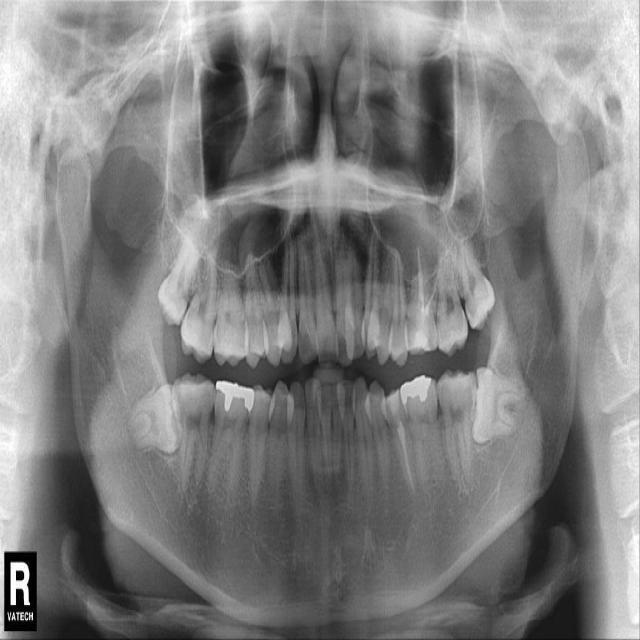Filling: (215, 381, 257, 416), (400, 375, 432, 405), (414, 330, 429, 351)
Root Canal Treatment: (400, 440, 413, 490), (417, 246, 425, 311), (431, 259, 439, 295)
impacted tooth: (470, 367, 533, 441), (455, 231, 494, 325), (128, 386, 179, 452), (161, 231, 196, 325)
